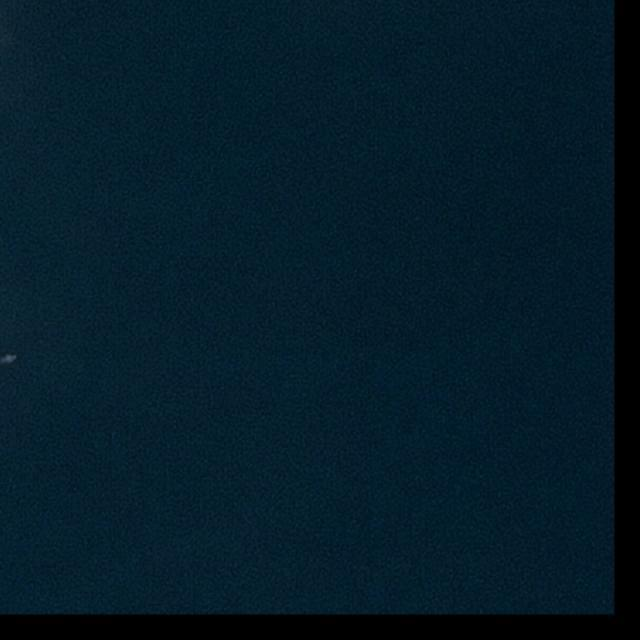ship: (11, 355, 16, 358)
